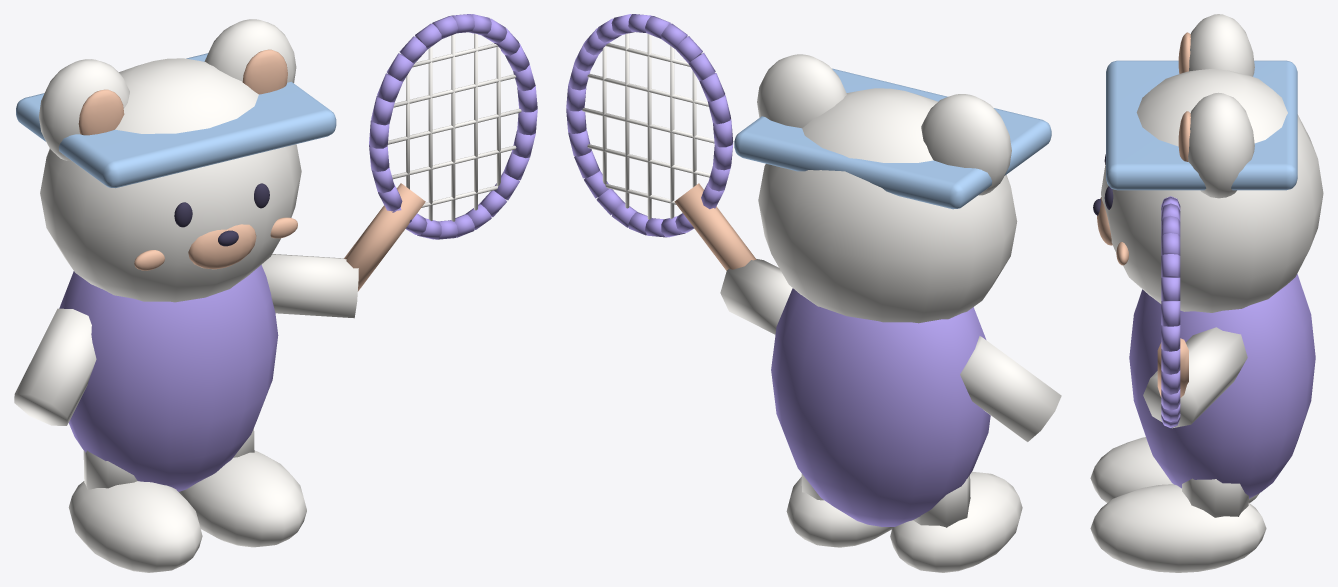
File: tennis-player.glb
3 views of the same model, side by side, from view 1: azimuth 30°, elevation 25°; view 2: azimuth 150°, elevation 25°; view 3: azimuth 270°, elevation 25° (orthographic).
Parts seen in each view (by area): view 1: TennisPlayer_Export_white, TennisPlayer_Export_CarPaint, TennisPlayer_Export_sky, TennisPlayer_Export_peach, TennisPlayer_Export_ink; view 2: TennisPlayer_Export_white, TennisPlayer_Export_CarPaint, TennisPlayer_Export_sky, TennisPlayer_Export_peach; view 3: TennisPlayer_Export_white, TennisPlayer_Export_CarPaint, TennisPlayer_Export_sky, TennisPlayer_Export_peach.
Boxes of the visible parts, box(x1,y1,x2,y2) form: TennisPlayer_Export_white: box(14, 19, 521, 572); TennisPlayer_Export_CarPaint: box(59, 14, 537, 491); TennisPlayer_Export_sky: box(16, 53, 336, 188); TennisPlayer_Export_peach: box(78, 49, 425, 291); TennisPlayer_Export_ink: box(174, 183, 269, 246); TennisPlayer_Export_white: box(582, 33, 1061, 572); TennisPlayer_Export_CarPaint: box(566, 14, 990, 526); TennisPlayer_Export_sky: box(734, 68, 1051, 209); TennisPlayer_Export_peach: box(674, 183, 756, 270); TennisPlayer_Export_white: box(1090, 14, 1323, 572); TennisPlayer_Export_CarPaint: box(1129, 196, 1315, 498); TennisPlayer_Export_sky: box(1106, 60, 1297, 190); TennisPlayer_Export_peach: box(1097, 32, 1190, 397).
Size of the model in its own units: 2.23 by 2.06 by 0.9.
